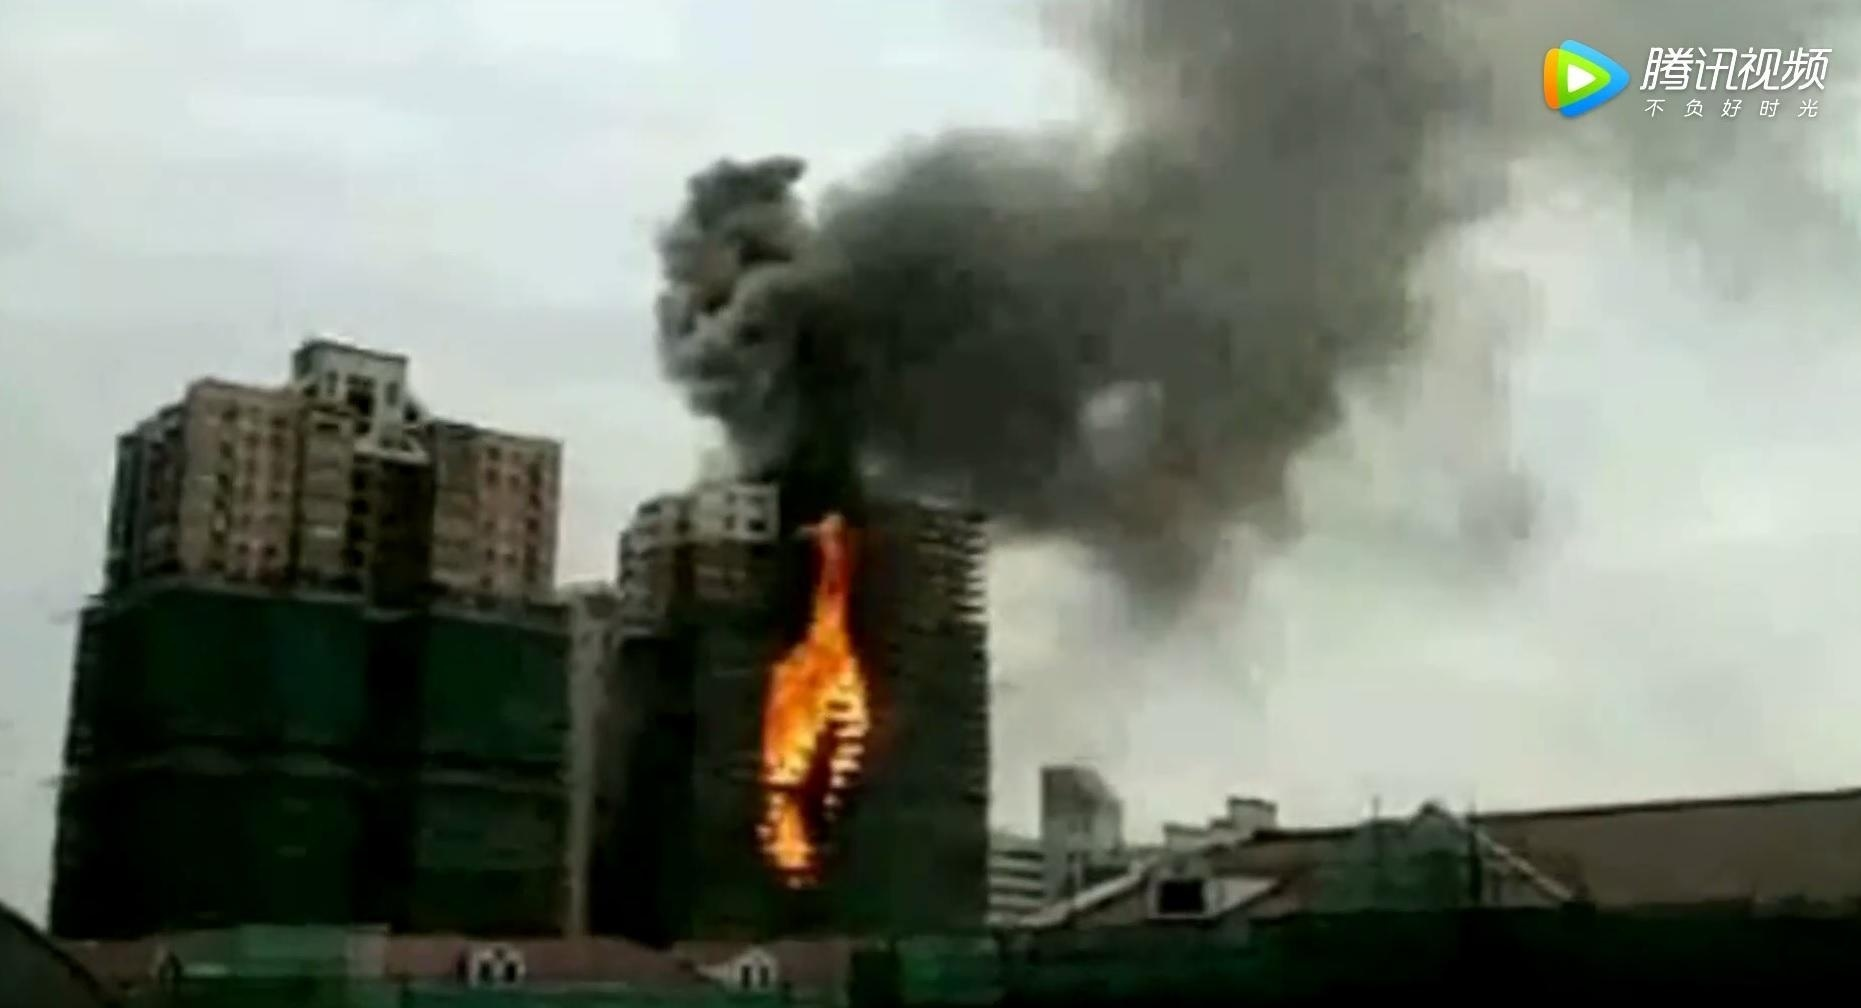fire: (754, 510, 872, 864)
